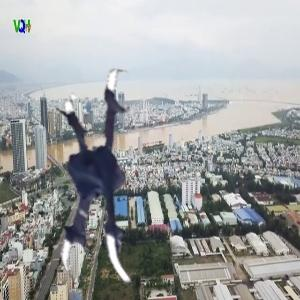drone: (12, 75, 225, 288)
